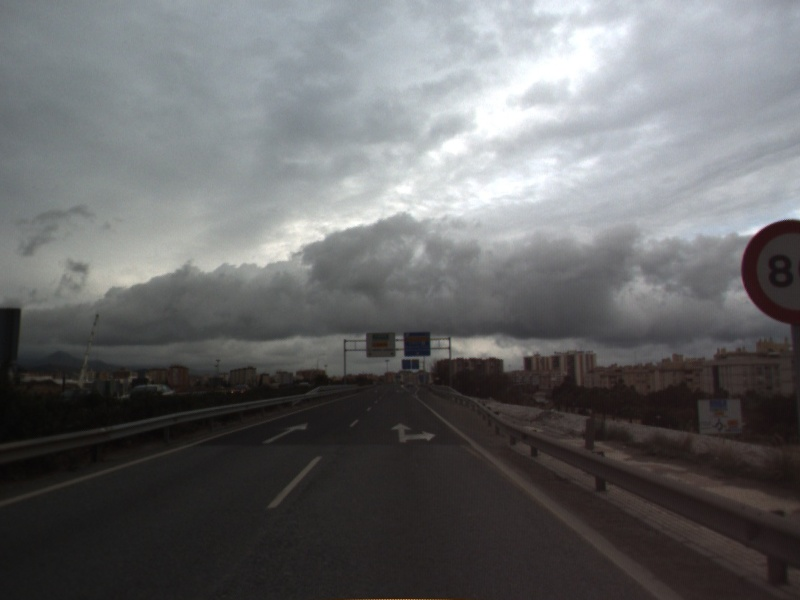STRAIGHT: (260, 421, 310, 446)
STRAIGHT_RIGHT: (388, 421, 438, 445)
